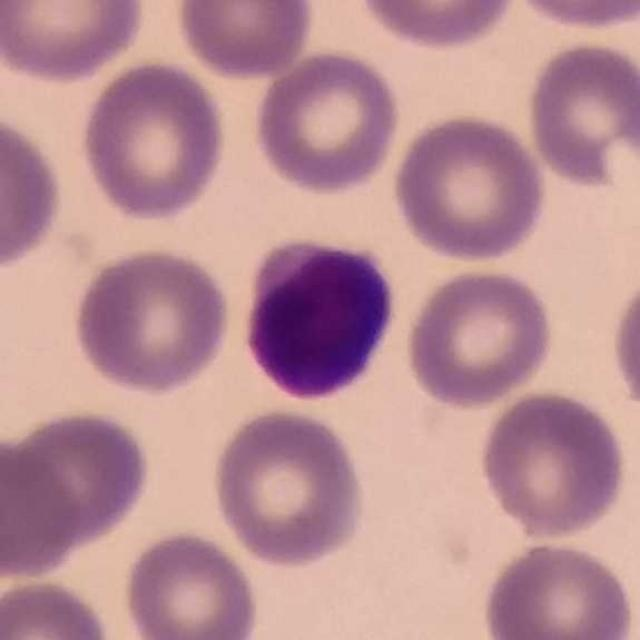Lymphocyte: (234, 228, 405, 409)
RBC: (208, 405, 371, 571), (77, 57, 230, 225), (70, 243, 235, 396), (390, 110, 551, 265), (475, 386, 630, 541), (250, 46, 404, 197), (401, 264, 558, 409), (2, 406, 155, 553), (522, 37, 640, 191), (119, 526, 264, 640), (477, 537, 637, 640), (0, 434, 85, 584), (0, 0, 149, 85), (171, 0, 316, 82), (0, 108, 68, 275), (354, 0, 522, 53), (0, 574, 116, 640), (607, 260, 640, 425), (505, 0, 639, 33)
